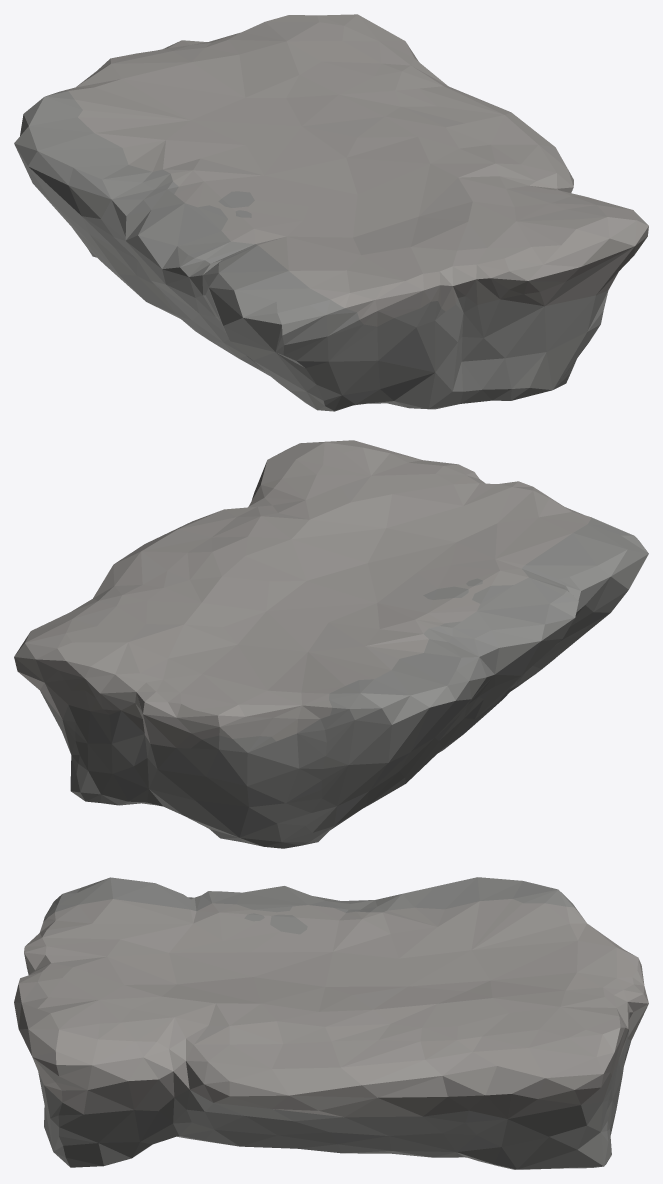
The model's file is Cavern_Floor_Border_Edge-02.fbx.
3 renders of one model, top to bottom at view 1: azimuth 30°, elevation 25°; view 2: azimuth 150°, elevation 25°; view 3: azimuth 270°, elevation 25°, orthographic. The views are drawn at different scales.
Visible parts, largest first — view 1: Cavern_Floor_Border_Edge-02; view 2: Cavern_Floor_Border_Edge-02; view 3: Cavern_Floor_Border_Edge-02.
Part boxes in pixels (x1=…): Cavern_Floor_Border_Edge-02: x1=14, y1=14, x2=648, y2=411; Cavern_Floor_Border_Edge-02: x1=14, y1=440, x2=648, y2=848; Cavern_Floor_Border_Edge-02: x1=14, y1=877, x2=648, y2=1169.
Bounding box in the file's own units: 1329 × 519 × 1799.
Materials: 1 (1 with a texture image).
